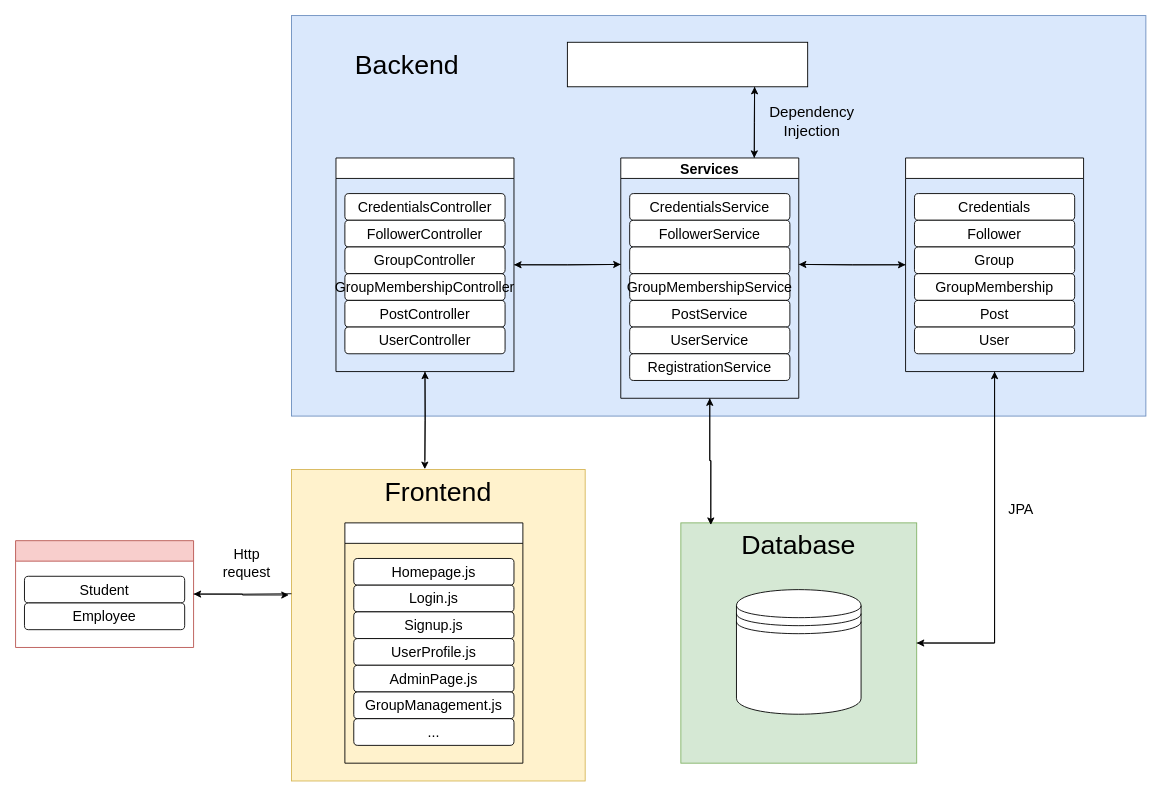
The diagram is 1161 pixels wide and 797 high, and some of its shapes have lost their labels. The shapes that lost their labels are listed below. From the top down, each one's box as (x1, y1, x2, y2) in pixels, then its label:
(566, 41, 808, 87): Repository Class
(335, 157, 514, 372): Controllers
(629, 246, 790, 274): GroupService
(905, 157, 1084, 372): Model
(15, 540, 194, 647): Users
(344, 522, 523, 763): Components
(736, 589, 861, 714): Mysql
